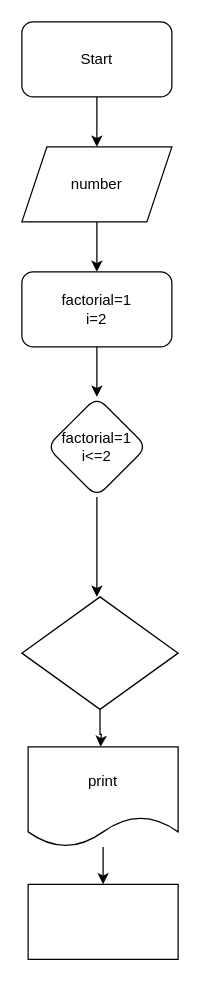
Image size: 200x981. Some labels were removed from this diagram. The centre of each missing label's shape, as x and y in pixels:
"End" goes at point 102,921.
"factorial=factorial*i" goes at point 99,652.
